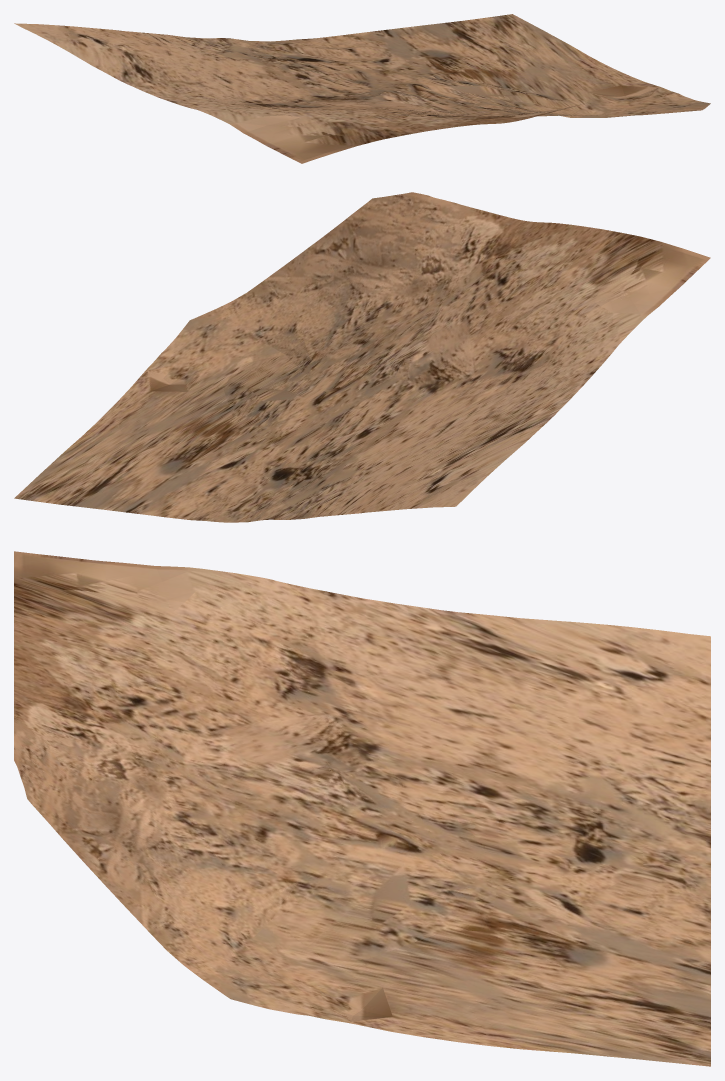
3 views of the same model, one above another, from view 1: azimuth 30°, elevation 25°; view 2: azimuth 150°, elevation 25°; view 3: azimuth 270°, elevation 25° (orthographic). The views are drawn at different scales.
Bounding box in the file's own units: 8.36 × 3 × 8.36.
Materials: 2 (2 with a texture image).
